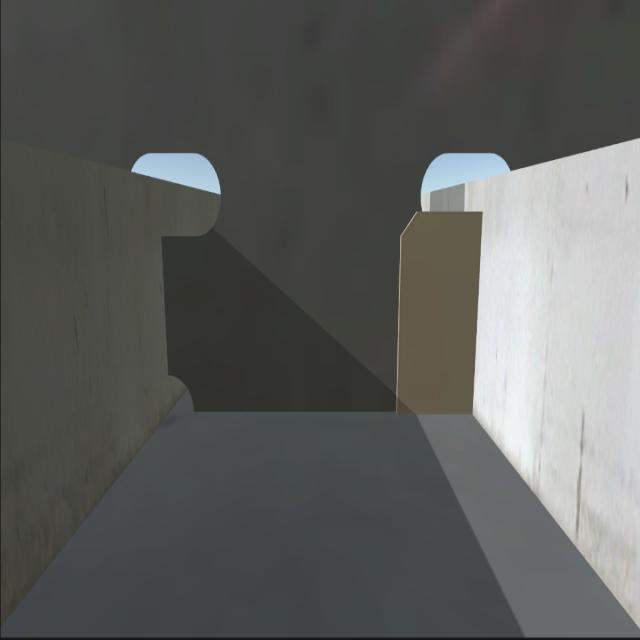fillet_hole: (163, 370, 195, 412)
fillet_yong_jeop_jang: (203, 402, 474, 416)
longi_yong_jeop_jang: (466, 212, 488, 417), (157, 247, 177, 369)
plate_CP03: (390, 212, 480, 398)
